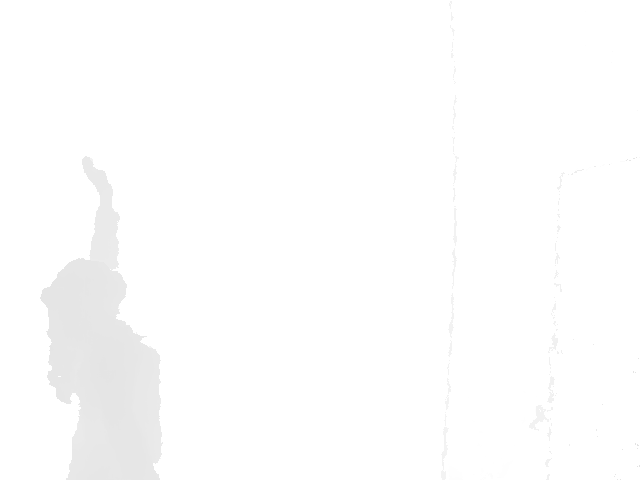hand: (80, 154, 114, 198)
head: (51, 257, 127, 319)
person: (39, 154, 166, 480)
